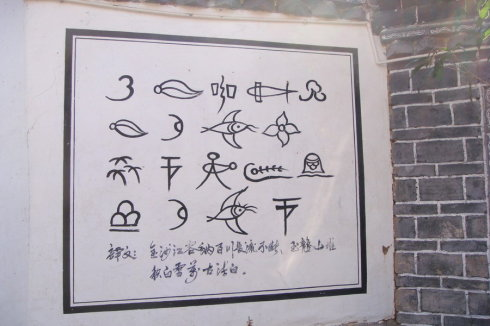chinese: (105, 238, 336, 282)
naxi: (112, 69, 330, 109), (105, 197, 315, 238), (108, 155, 335, 191), (108, 115, 313, 149)
